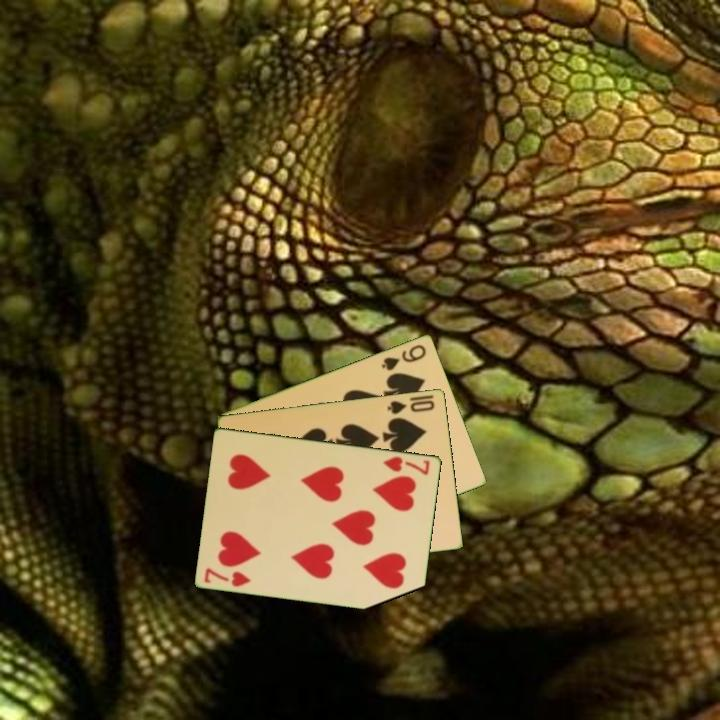10s: (384, 396, 437, 417)
7h: (379, 453, 433, 478), (201, 564, 254, 589)
9s: (378, 341, 429, 373)
